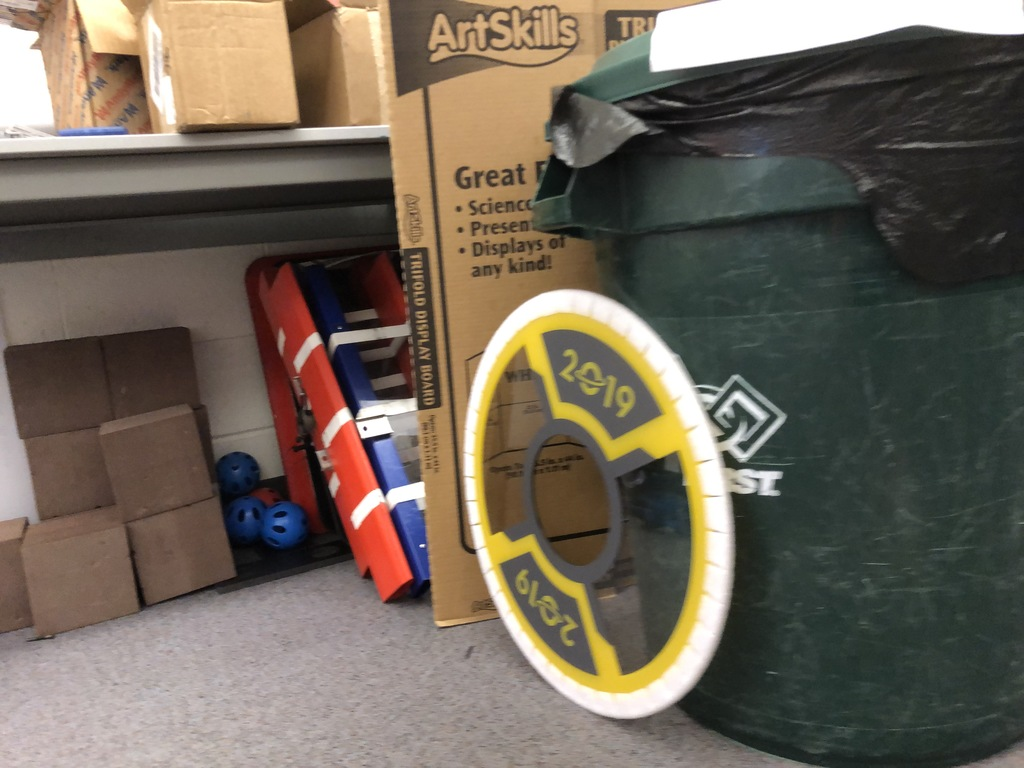hatch_panel: (446, 268, 760, 740)
